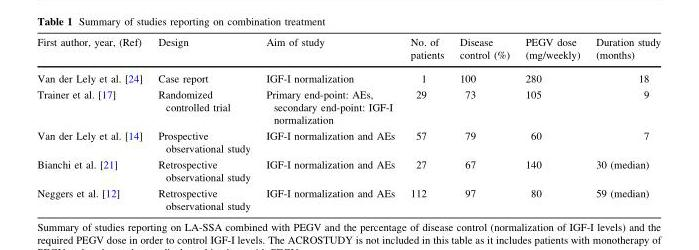table: (36, 37, 660, 211)
table column: (257, 37, 402, 211), (36, 37, 149, 211), (149, 37, 257, 211), (587, 37, 660, 211), (516, 37, 587, 211), (451, 37, 516, 211), (402, 37, 451, 211)
table column header: (36, 37, 660, 66)
table row: (36, 86, 660, 127), (36, 37, 660, 66), (36, 127, 660, 156), (36, 156, 660, 185), (36, 185, 660, 211), (36, 66, 660, 86)
